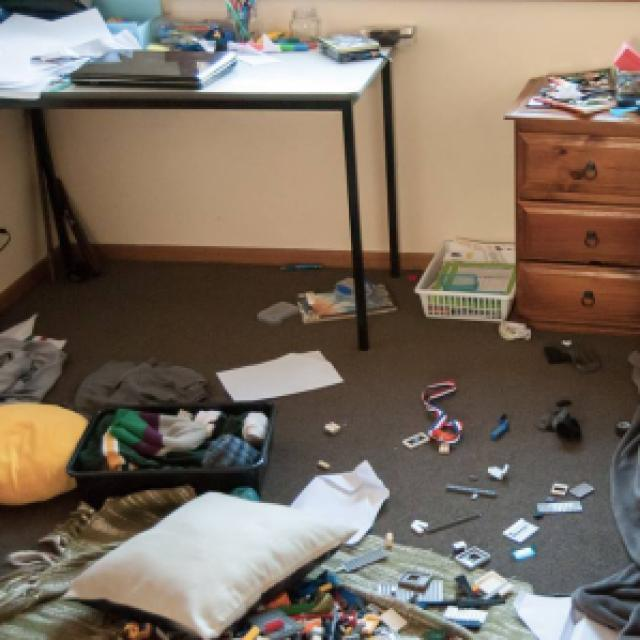mess: (29, 349, 302, 507), (412, 361, 606, 571), (7, 14, 385, 90), (279, 555, 541, 640)
messy_table: (0, 0, 421, 354)
